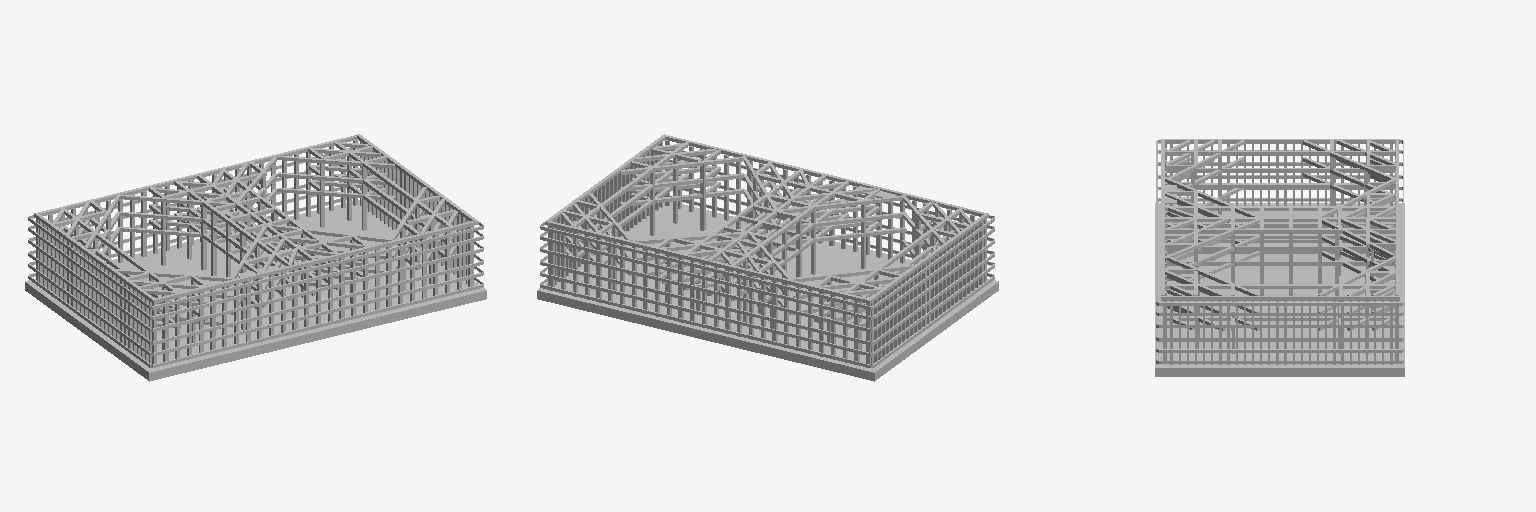
File: foupit.obj
The picture shows the model from 3 angles: view 1: azimuth 30°, elevation 25°; view 2: azimuth 150°, elevation 25°; view 3: azimuth 270°, elevation 25°; orthographic projection.
Visible parts, largest first — view 1: ???, ???.6, ???.5, ???.2, ???.3, ???.4, ???.1, ???.3_1, ???.1_28, ???.5_1, ???.6_1, ???.9_12 (+4 smaller); view 2: ???, ???.6, ???.2, ???.5, ???.3, ???.4, ???.1, ???.1_28, ???.3_1, ???.5_1, ???.6_1, ???.9_12 (+8 smaller); view 3: ???, ???.1, ???.4, ???.5, ???.6_1, ???.6, ???.3, ???.8_18, ???.8_9, ???.4_1, ???.5_1, ???.9_6 (+10 smaller).
Boxes of the visible parts, x1=… form: ???: x1=25, y1=200, x2=486, y2=381; ???.6: x1=28, y1=197, x2=483, y2=367; ???.5: x1=28, y1=183, x2=483, y2=356; ???.2: x1=28, y1=148, x2=483, y2=319; ???.3: x1=28, y1=164, x2=483, y2=331; ???.4: x1=28, y1=173, x2=483, y2=344; ???.1: x1=28, y1=139, x2=483, y2=309; ???.3_1: x1=152, y1=221, x2=474, y2=302; ???.1_28: x1=38, y1=135, x2=356, y2=215; ???.5_1: x1=34, y1=213, x2=156, y2=303; ???.6_1: x1=356, y1=134, x2=478, y2=224; ???.9_12: x1=174, y1=181, x2=291, y2=265; ???: x1=537, y1=202, x2=998, y2=381; ???.6: x1=540, y1=196, x2=994, y2=367; ???.2: x1=540, y1=149, x2=994, y2=319; ???.5: x1=540, y1=189, x2=994, y2=356; ???.3: x1=540, y1=160, x2=994, y2=331; ???.4: x1=540, y1=175, x2=994, y2=345; ???.1: x1=540, y1=140, x2=994, y2=309; ???.1_28: x1=549, y1=221, x2=867, y2=302; ???.3_1: x1=666, y1=135, x2=986, y2=216; ???.5_1: x1=867, y1=213, x2=988, y2=303; ???.6_1: x1=545, y1=134, x2=666, y2=225; ???.9_12: x1=732, y1=181, x2=848, y2=266; ???: x1=1155, y1=203, x2=1404, y2=376; ???.1: x1=1156, y1=140, x2=1403, y2=305; ???.4: x1=1156, y1=175, x2=1403, y2=341; ???.5: x1=1156, y1=187, x2=1403, y2=352; ???.6_1: x1=1161, y1=296, x2=1399, y2=300; ???.6: x1=1156, y1=198, x2=1403, y2=363; ???.3: x1=1156, y1=162, x2=1403, y2=327; ???.8_18: x1=1163, y1=151, x2=1397, y2=155; ???.8_9: x1=1165, y1=229, x2=1395, y2=233; ???.4_1: x1=1164, y1=217, x2=1396, y2=221; ???.5_1: x1=1161, y1=139, x2=1399, y2=143; ???.9_6: x1=1166, y1=284, x2=1394, y2=288.
Bounding box in the file's own units: 403 × 88.07 × 258.